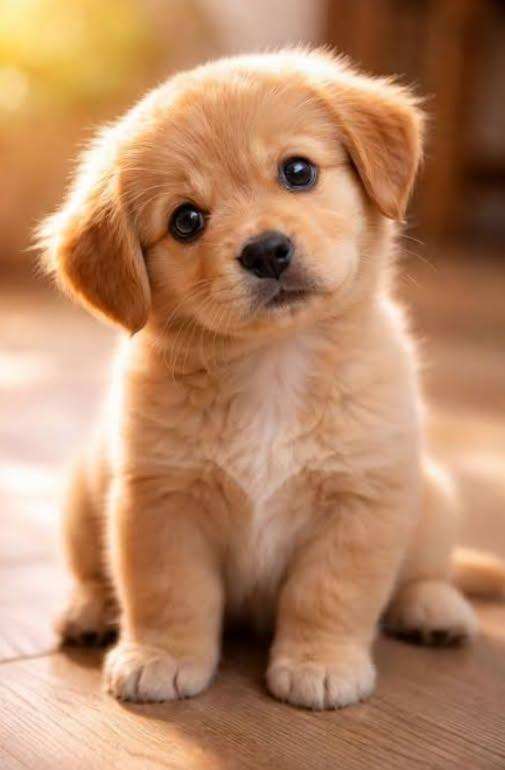puppy-dog: (37, 39, 505, 715)
